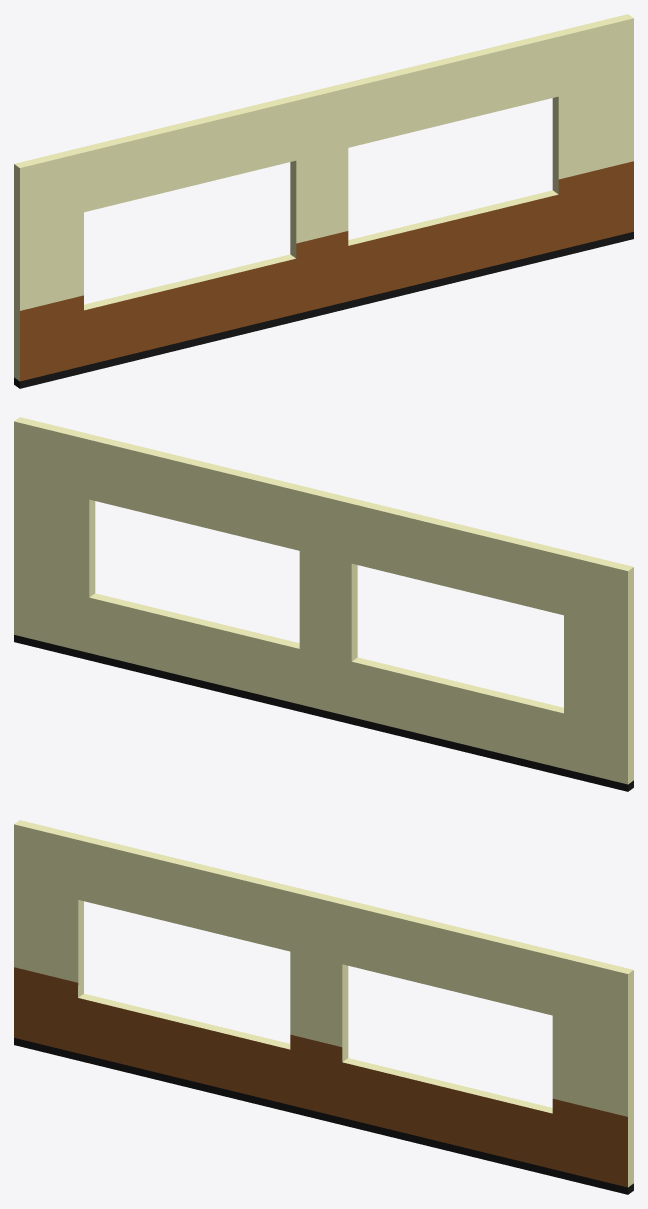
Rendered from Wall 3.fbx.
The picture shows the model from 3 angles, top to bottom: view 1: azimuth 30°, elevation 25°; view 2: azimuth 150°, elevation 25°; view 3: azimuth 330°, elevation 25°; orthographic projection.
Parts seen in each view (by area): view 1: Wall 3; view 2: Wall 3; view 3: Wall 3.
Boxes of the visible parts, <box> form: Wall 3: <box>14,14,633,388</box>; Wall 3: <box>14,417,633,791</box>; Wall 3: <box>14,820,633,1194</box>.
Size of the model in its own units: 843 by 290 by 14.
2 materials, 1 textured.
